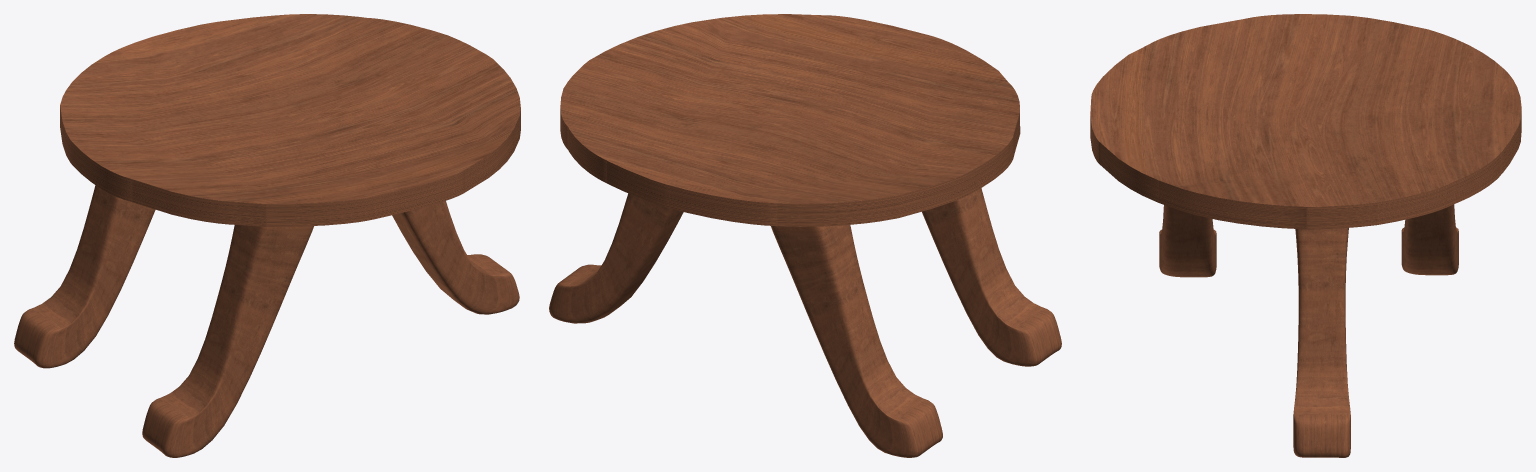
Rendered from Tabouret_Royal.fbx.
3 views of the same model, side by side, from view 1: azimuth 30°, elevation 25°; view 2: azimuth 150°, elevation 25°; view 3: azimuth 270°, elevation 25° (orthographic). The views are drawn at different scales.
Parts seen in each view (by area): view 1: Extrusion, Cube_3, Cube, Cube_2; view 2: Extrusion, Cube, Cube_3, Cube_2; view 3: Extrusion, Cube_2, Cube_3, Cube.
Part boxes in pixels (bbox=[...]): Extrusion: bbox=[60, 14, 520, 226]; Cube_3: bbox=[142, 225, 313, 457]; Cube: bbox=[14, 185, 155, 368]; Cube_2: bbox=[392, 201, 519, 314]; Extrusion: bbox=[560, 14, 1020, 226]; Cube: bbox=[771, 225, 942, 457]; Cube_3: bbox=[922, 188, 1061, 366]; Cube_2: bbox=[549, 193, 683, 323]; Extrusion: bbox=[1090, 14, 1521, 229]; Cube_2: bbox=[1293, 228, 1350, 457]; Cube_3: bbox=[1159, 205, 1216, 277]; Cube: bbox=[1401, 204, 1458, 275].
Size of the model in its own units: 390 by 217 by 347.
1 material, 1 textured.
